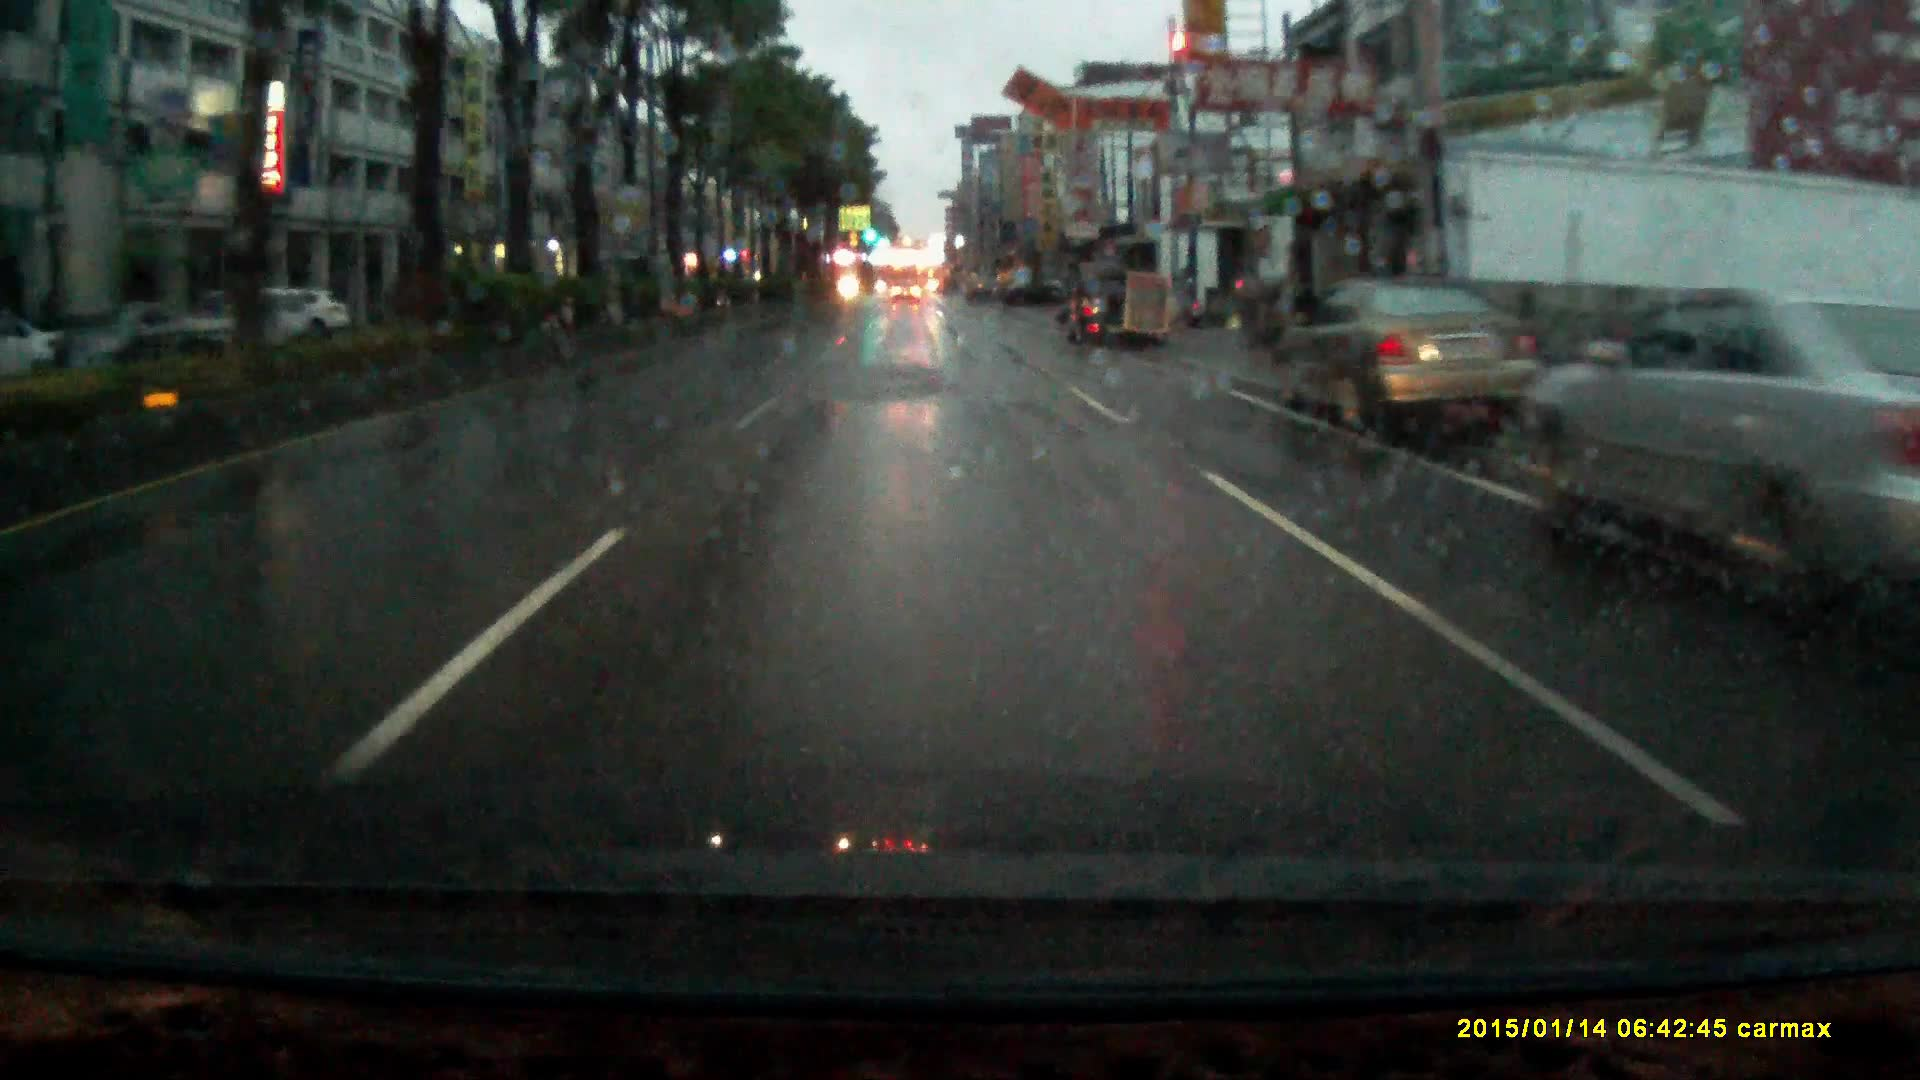vehicle: (1514, 291, 1883, 607), (1274, 276, 1540, 429), (165, 298, 313, 367), (1068, 264, 1163, 353), (891, 281, 920, 305)
